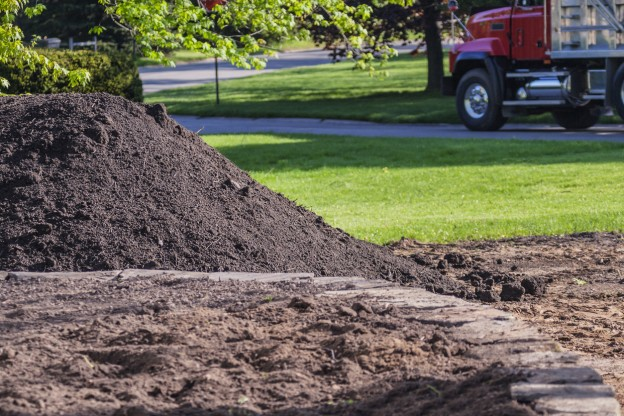dirt: (0, 97, 221, 414), (358, 243, 623, 414), (224, 180, 353, 409)
grass: (347, 140, 623, 237), (178, 59, 418, 118), (222, 134, 346, 218)
tree: (422, 24, 447, 92)
